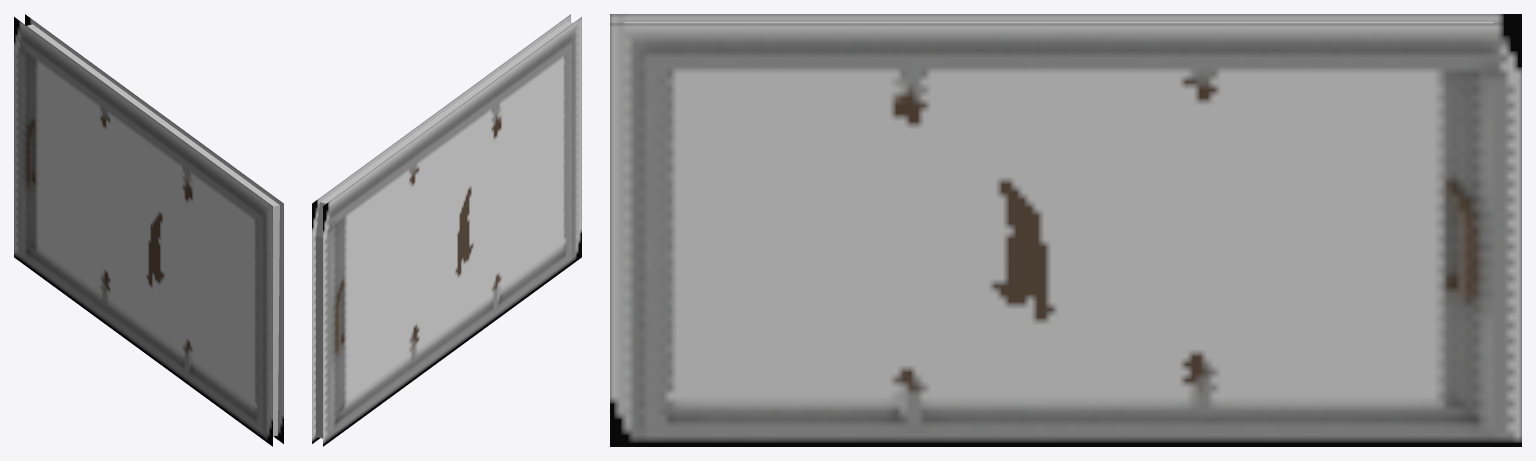
Rendered from pz_native_fixtures_windows_white_104_frame.obj.
The picture shows the model from 3 angles, left to right: view 1: azimuth 30°, elevation 25°; view 2: azimuth 150°, elevation 25°; view 3: azimuth 270°, elevation 25°; orthographic projection. The views are drawn at different scales.
Parts seen in each view (by area): view 1: pz_native_fixtures_windows_white_104_frame; view 2: pz_native_fixtures_windows_white_104_frame; view 3: pz_native_fixtures_windows_white_104_frame.
Part boxes in pixels (x1,y1,x2,y2): pz_native_fixtures_windows_white_104_frame: (14,14,283,446); pz_native_fixtures_windows_white_104_frame: (312,14,581,446); pz_native_fixtures_windows_white_104_frame: (610,14,1521,446).
Bounding box in the file's own units: 0.04 × 0.8438 × 1.65.
Materials: 1 (1 with a texture image).
